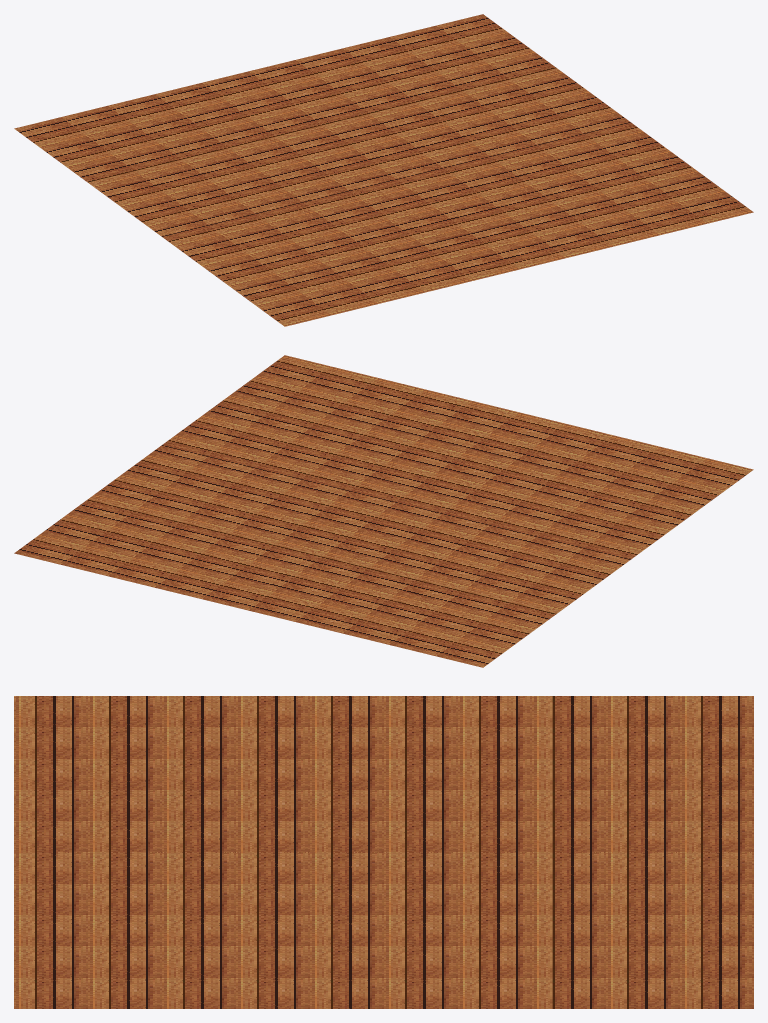
File: TestChurch.glb
3 views of the same model, one above another, from view 1: azimuth 30°, elevation 25°; view 2: azimuth 150°, elevation 25°; view 3: azimuth 270°, elevation 25° (orthographic). The views are drawn at different scales.
Parts seen in each view (by area): view 1: Plane.001; view 2: Plane.001; view 3: Plane.001.
Boxes of the visible parts, x1,y1,x2,y2 form: Plane.001: [14, 14, 753, 326]; Plane.001: [14, 355, 753, 667]; Plane.001: [14, 696, 753, 1008].
Bounding box in the file's own units: 10.41 × 0 × 10.41.
Materials: 1 (1 with a texture image).
